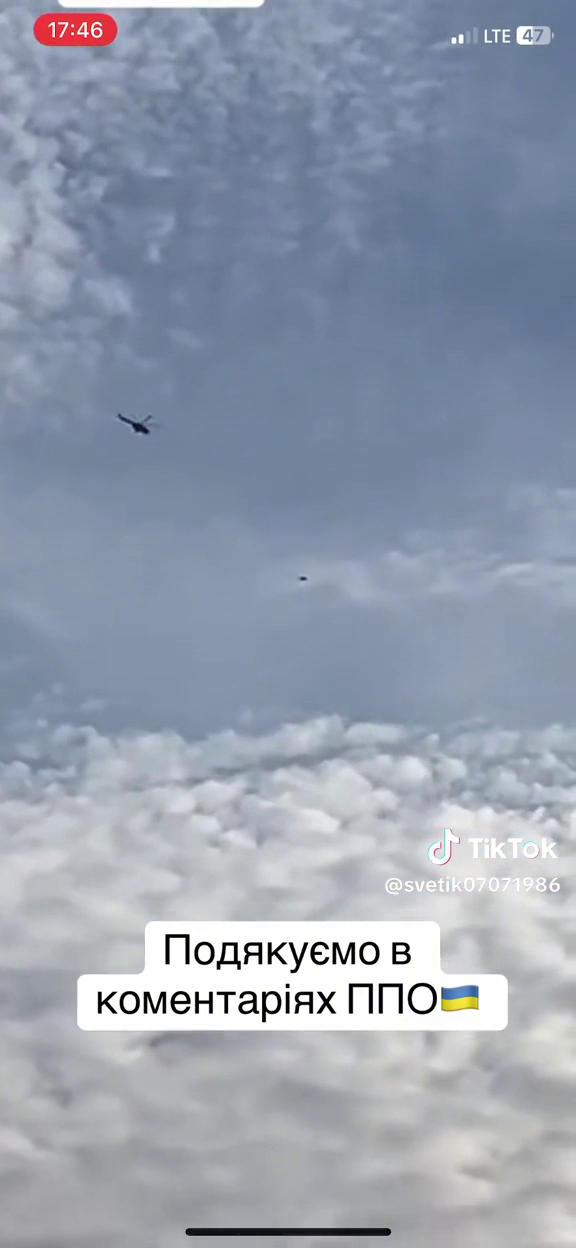not_drone: (117, 414, 150, 435)
shahed: (299, 576, 307, 582)
